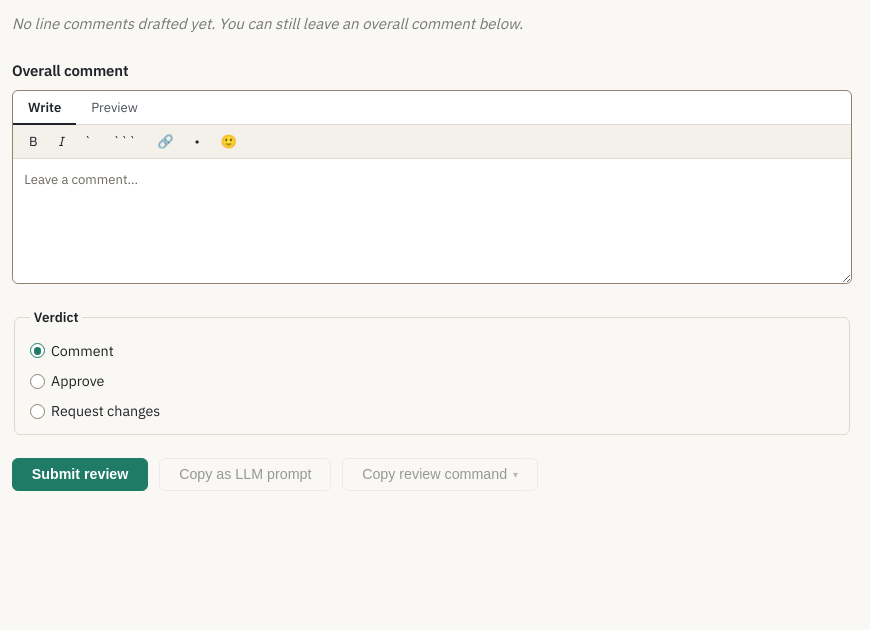
when the bridge cannot take it › explains itself when there is a comment but nothing anchored to send
Step 1. Type "Overall: please stop throwing in this module." into the text box → (432, 221), box [13,159,851,283]
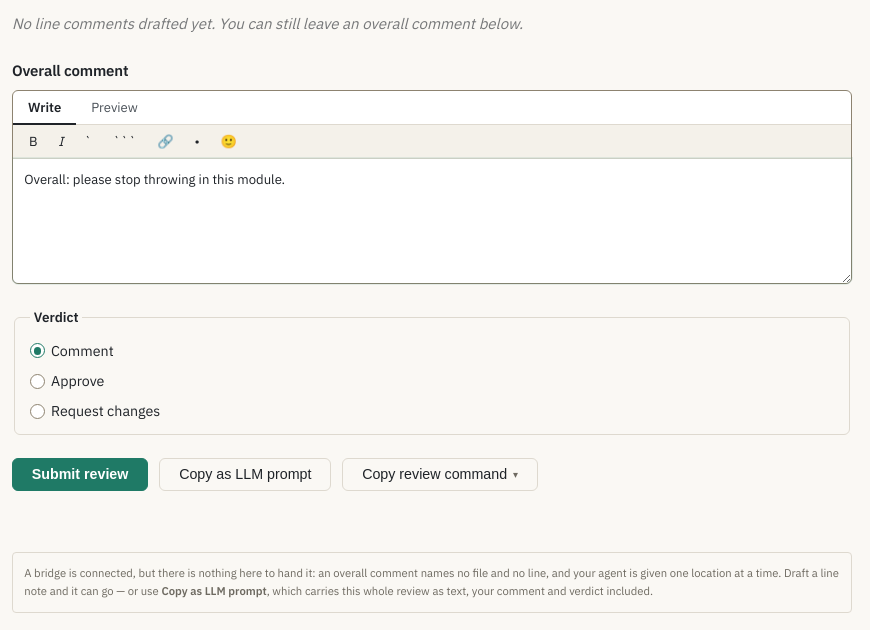
Now the element with test id "verdict-handover-empty" shows "Copy as LLM prompt", box [161,584,267,598]
